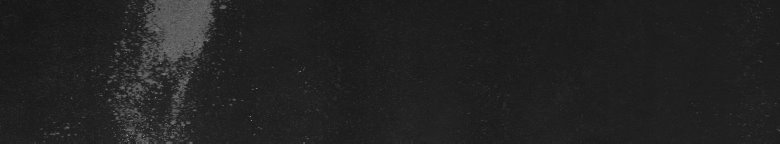kb: (132, 4, 208, 136)
